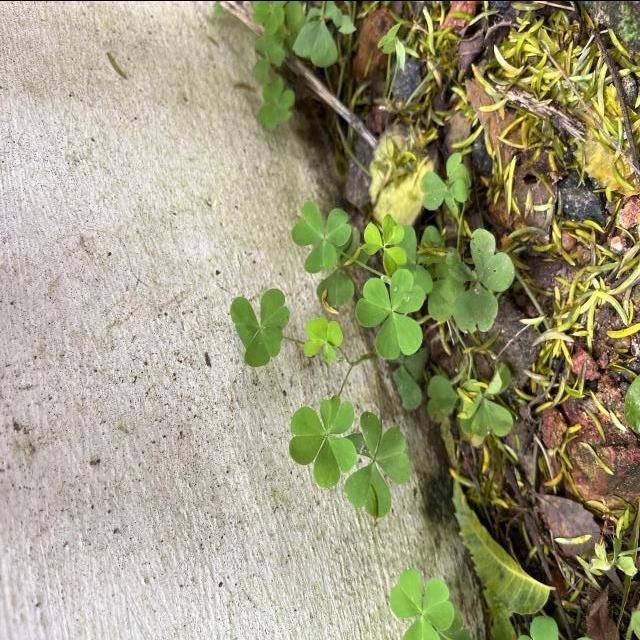Oxalis corniculata: (344, 410, 412, 518), (450, 227, 516, 334), (354, 266, 426, 360), (287, 396, 358, 488), (228, 286, 292, 368), (388, 566, 456, 640), (290, 198, 352, 274), (360, 212, 408, 274), (303, 315, 343, 364)
